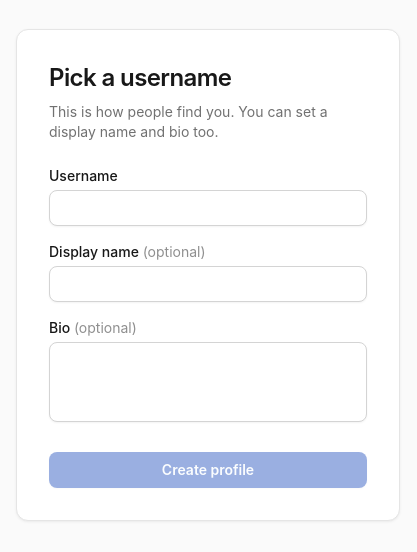
Test case: a taken username gets a distinct 'taken' message, not the shape hint
The image size is (417, 552).
Type "ada_lovelace" into the field labelled "Username" at point(208, 208), box [49,190,367,226]
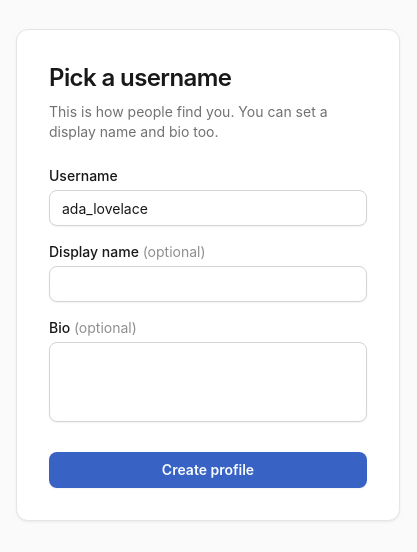
Click the button "Create profile" at point(208, 470), box [49,452,367,488]
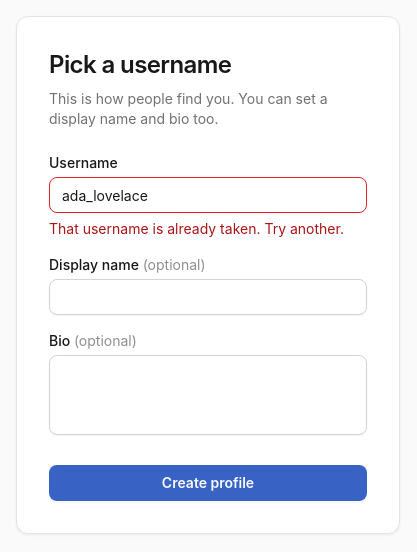
Expected: the message does not show "lowercase letters", [49,219,367,239]
Expected: the message shows "already taken", [49,220,344,237]
